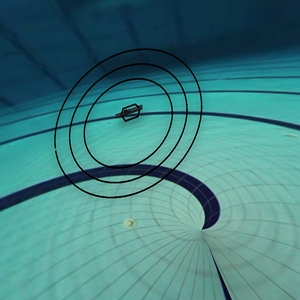circle: (47, 35, 219, 209)
submarine: (111, 97, 147, 128)
